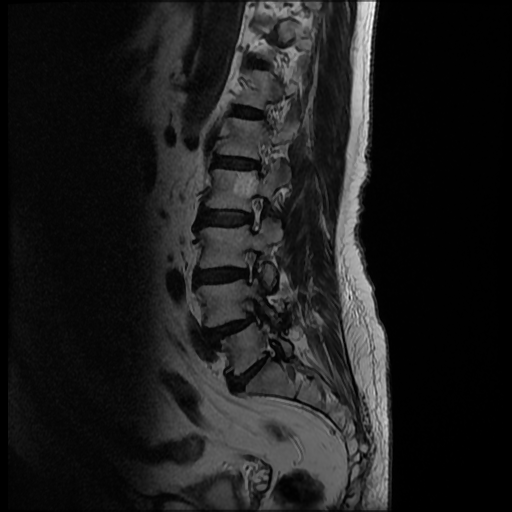LFS0: (238, 187, 272, 239)
